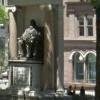Statue: (12, 13, 55, 77)
